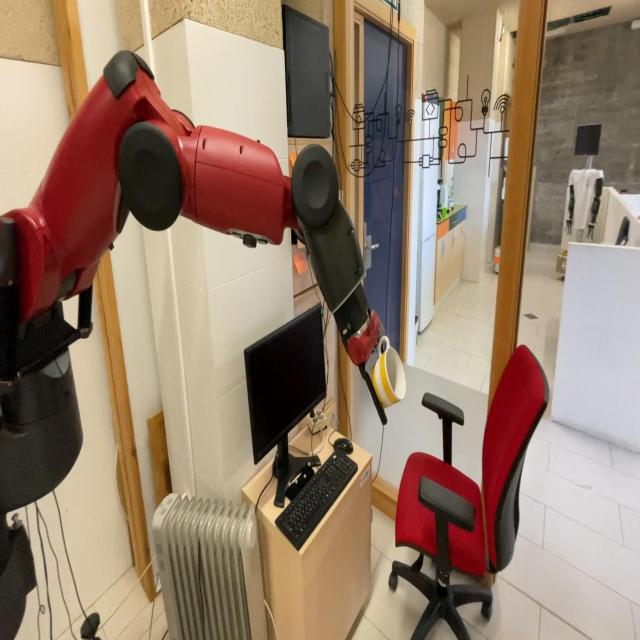cup: (368, 334, 407, 411)
